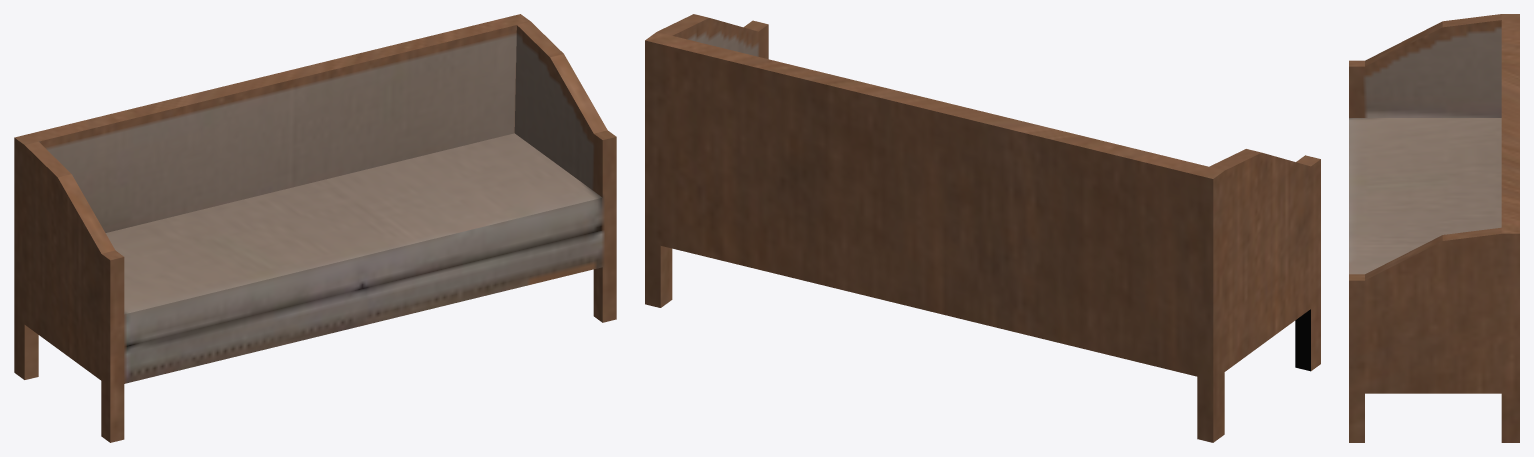
File: Armchair_07-col.glb
The picture shows the model from 3 angles, left to right: view 1: azimuth 30°, elevation 25°; view 2: azimuth 150°, elevation 25°; view 3: azimuth 270°, elevation 25°; orthographic projection. The views are drawn at different scales.
Visible parts, largest first — view 1: Armchair_07-col; view 2: Armchair_07-col; view 3: Armchair_07-col.
Part boxes in pixels (bbox=[...]): Armchair_07-col: bbox=[14, 14, 616, 442]; Armchair_07-col: bbox=[645, 14, 1320, 442]; Armchair_07-col: bbox=[1349, 14, 1519, 442].
Size of the model in its own units: 1.95 by 0.8647 by 0.6401.
Materials: 1 (1 with a texture image).
